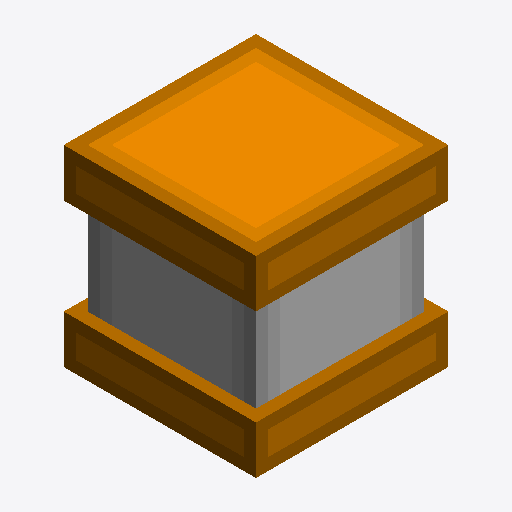
A Minecraft block model of 3 cuboids, rendered isometrically (azimuth 45°, elevation 35.3°) with the resource pack's own textures.
Parts seen in each view (by area): element 3, element 1, element 2.
Part boxes in pixels (bbox=[...]): element 3: bbox=[64, 34, 447, 310]; element 1: bbox=[88, 215, 423, 407]; element 2: bbox=[64, 298, 447, 477].
Bounding box in the file's own units: 16 × 16 × 16.